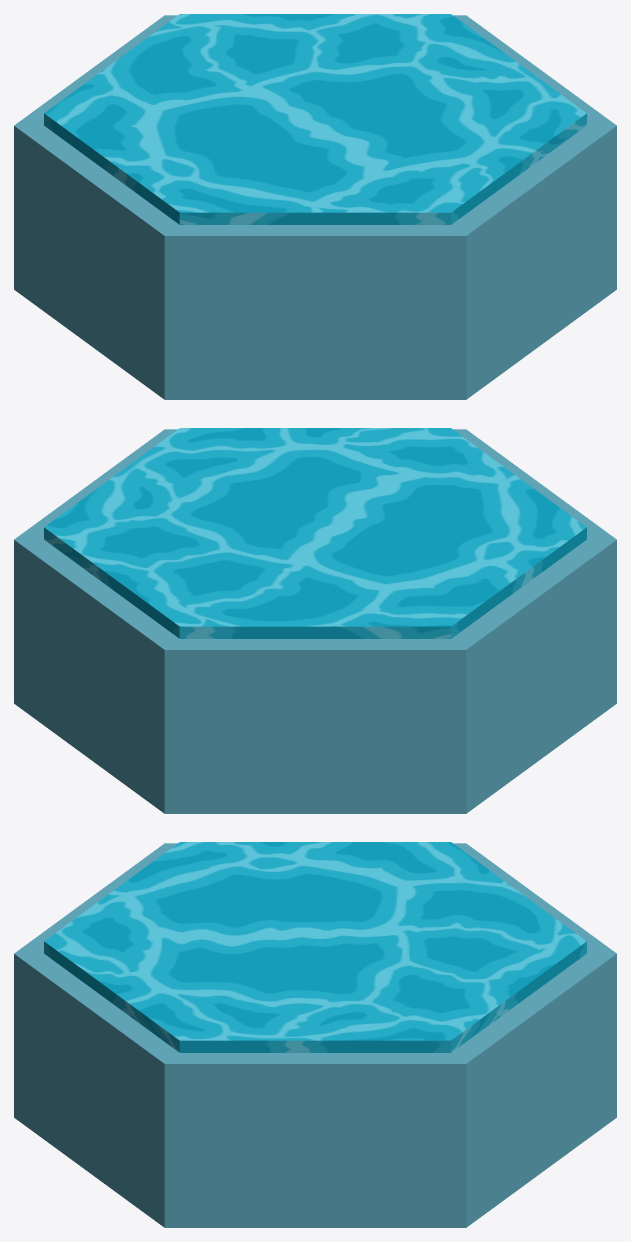
The model's file is GroundPoly2.fbx.
The picture shows the model from 3 angles, top to bottom: view 1: azimuth 30°, elevation 25°; view 2: azimuth 150°, elevation 25°; view 3: azimuth 270°, elevation 25°; orthographic projection.
Visible parts, largest first — view 1: Cylinder.004, Cylinder.005; view 2: Cylinder.004, Cylinder.005; view 3: Cylinder.004, Cylinder.005.
Part boxes in pixels (box(x1,y1,x2,y2)): Cylinder.004: box(14, 15, 616, 399); Cylinder.005: box(44, 14, 586, 224); Cylinder.004: box(14, 429, 616, 813); Cylinder.005: box(44, 428, 586, 638); Cylinder.004: box(14, 843, 616, 1227); Cylinder.005: box(44, 842, 586, 1052).
Size of the model in its own units: 173 by 64.5 by 200.
